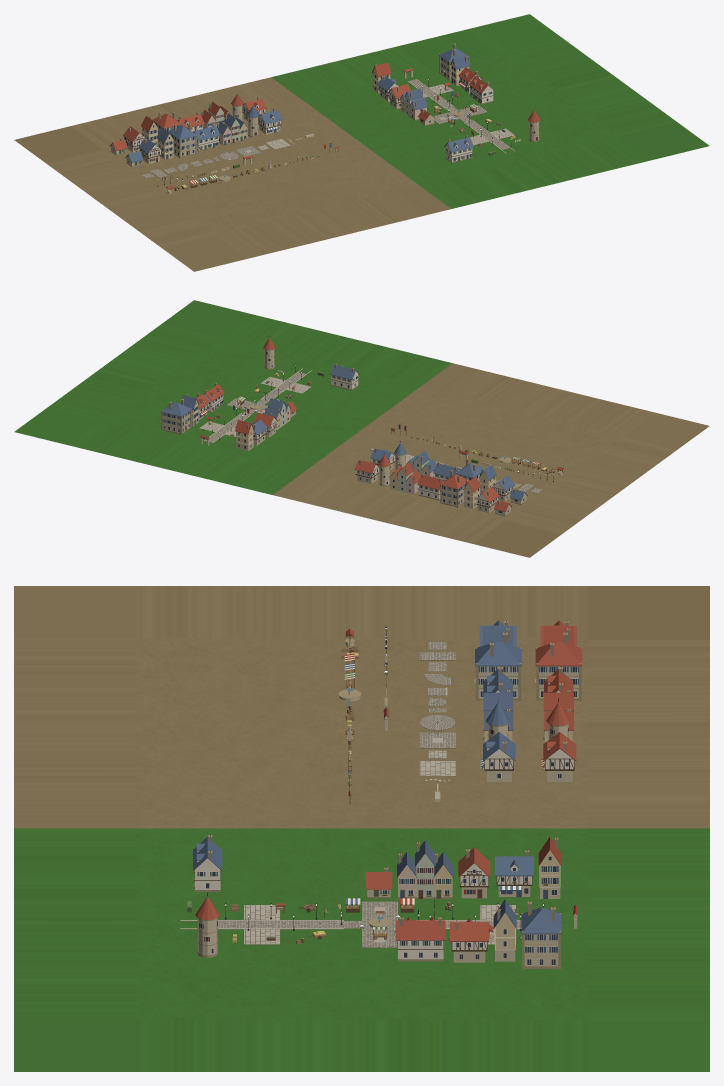
File: town-demo.glb
The picture shows the model from 3 angles, top to bottom: view 1: azimuth 30°, elevation 25°; view 2: azimuth 150°, elevation 25°; view 3: azimuth 270°, elevation 25°; orthographic projection. The views are drawn at different scales.
Visible parts, largest first — view 1: ground, t_row_slate (×2), t_big_slate (×2), t_wide_slate (×2), t_wide_red, t_shop_slate, t_row_red, t_tall_slate, t_timber_slate; view 2: ground, t_row_slate (×2), t_tall_red (×2), t_big_slate, t_big_red, t_row_red, t_wide_slate, t_wide_red, t_shop_red, t_timber_red; view 3: ground, t_big_slate (×2), t_row_slate (×2), t_shop_red (×2), t_shop_slate (×2), t_wide_red, t_big_red, t_wide_slate, t_timber_red, t_tall_red, t_tall_slate, t_towerh_red (+1 smaller).
Boxes of the visible parts, left/top/right/bottom form: ground: left=14, top=14, right=709, bottom=271; t_row_slate (×2): left=217, top=88, right=427, bottom=145; t_big_slate (×2): left=167, top=43, right=470, bottom=158; t_wide_slate (×2): left=193, top=123, right=473, bottom=162; t_wide_red: left=468, top=74, right=494, bottom=104; t_shop_slate: left=258, top=108, right=282, bottom=134; t_row_red: left=201, top=101, right=230, bottom=128; t_tall_slate: left=156, top=127, right=174, bottom=159; t_timber_slate: left=138, top=137, right=162, bottom=163; ground: left=14, top=300, right=709, bottom=557; t_row_slate (×2): left=264, top=398, right=436, bottom=477; t_tall_red (×2): left=235, top=420, right=481, bottom=508; t_big_slate: left=161, top=398, right=191, bottom=434; t_big_red: left=440, top=470, right=469, bottom=507; t_row_red: left=389, top=462, right=420, bottom=494; t_wide_slate: left=330, top=363, right=359, bottom=390; t_wide_red: left=417, top=473, right=444, bottom=500; t_shop_red: left=354, top=459, right=379, bottom=483; t_timber_red: left=475, top=487, right=498, bottom=513; ground: left=14, top=586, right=709, bottom=1071; t_big_slate (×2): left=474, top=632, right=561, bottom=969; t_row_slate (×2): left=397, top=689, right=513, bottom=899; t_shop_red (×2): left=450, top=732, right=576, bottom=962; t_shop_slate (×2): left=480, top=732, right=533, bottom=897; t_wide_red: left=396, top=917, right=445, bottom=961; t_big_red: left=535, top=632, right=582, bottom=700; t_wide_slate: left=193, top=834, right=222, bottom=891; t_timber_red: left=458, top=847, right=490, bottom=898; t_tall_red: left=538, top=836, right=561, bottom=899; t_tall_slate: left=493, top=899, right=516, bottom=961; t_towerh_red: left=195, top=892, right=219, bottom=957.
Bounding box in the file's own units: 380 × 22.32 × 230.
